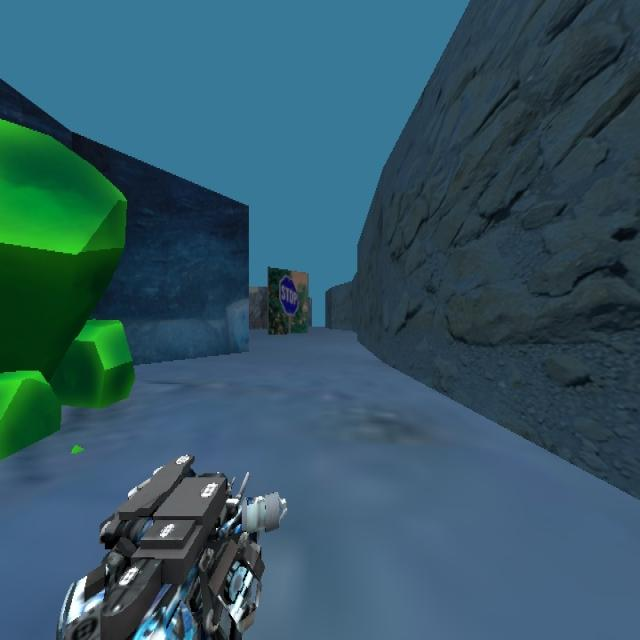Circle: (277, 273, 299, 316)
Diamon: (0, 113, 135, 459)
Stop_Sign: (266, 266, 308, 334)
